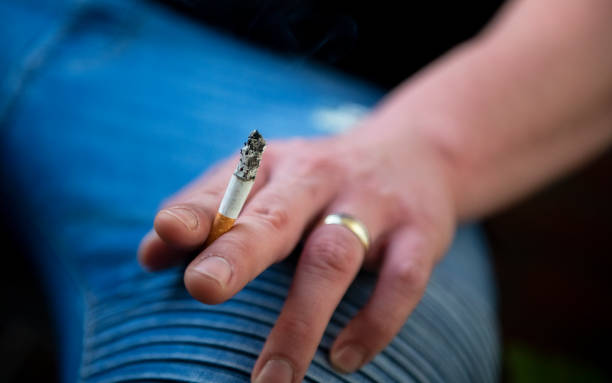cigarette: (207, 129, 272, 238)
